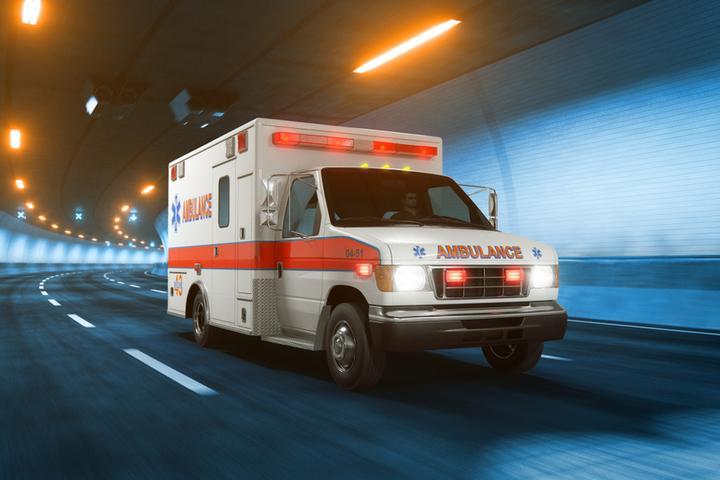ambulance_on: (163, 117, 565, 384)
